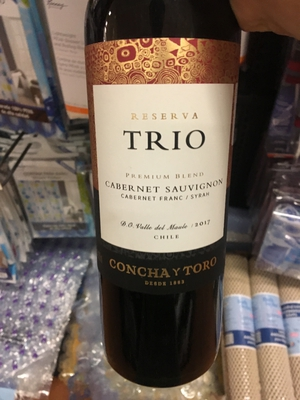trio cabernet sauvignon: (84, 2, 243, 394)
